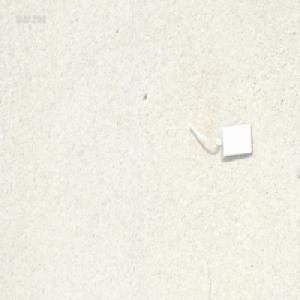LuggageTag: (183, 117, 252, 160)
